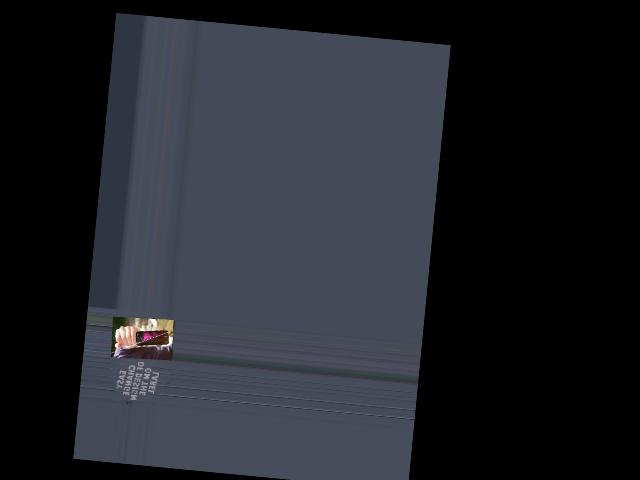beer: (113, 326, 170, 348)
